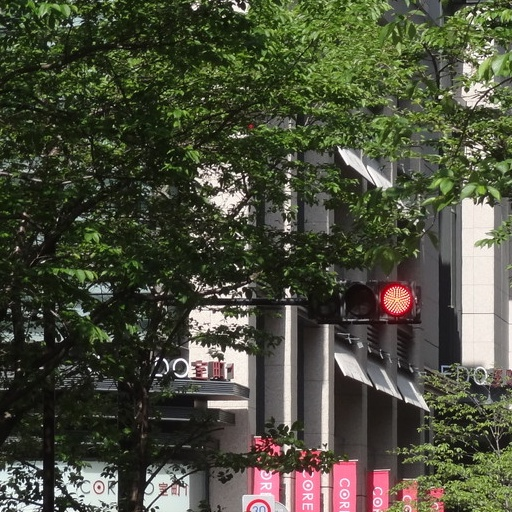Traffic_Signal_Red: (314, 276, 425, 326)
